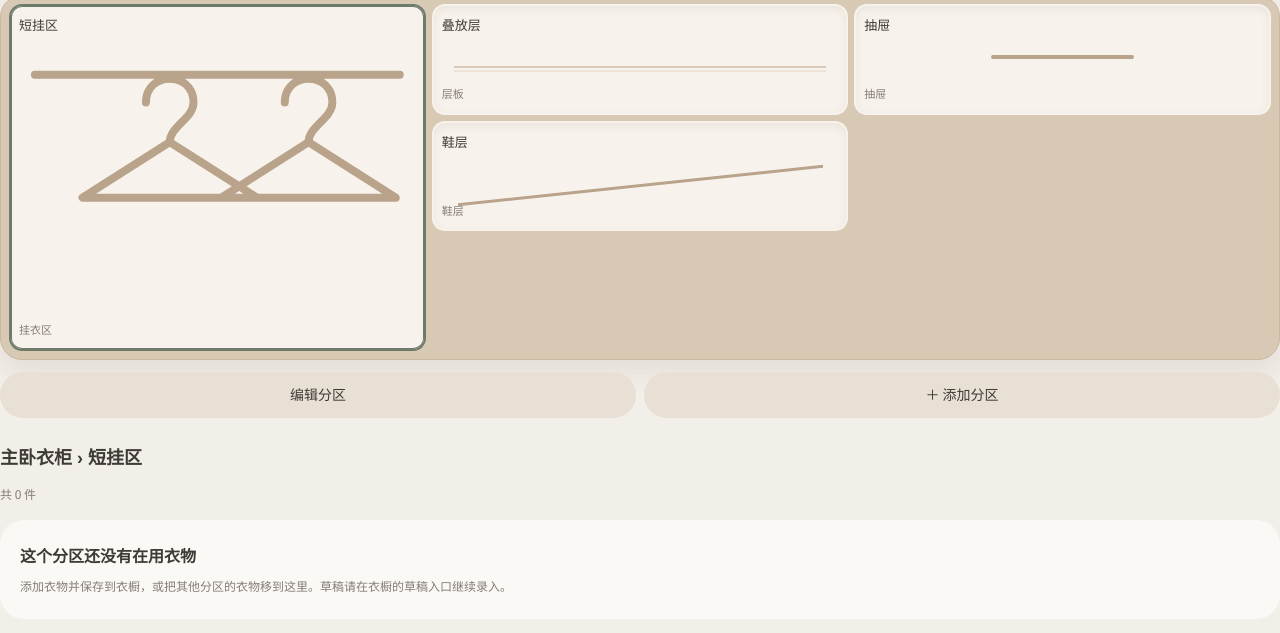
requires a legal relocation before deleting a nonempty 分区
What coordinates should you click on to do the following:
click the button "编辑分区"
I would click on:
 (318, 395)
Its box is [0, 372, 636, 418].
(page scrolled)
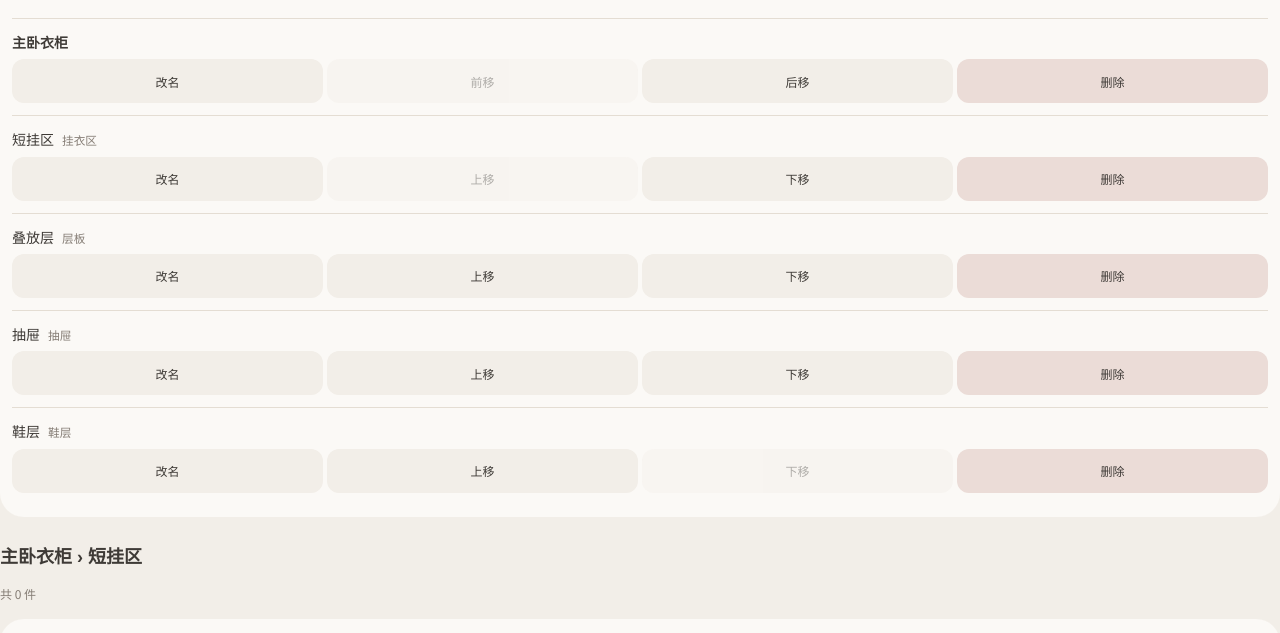
What coordinates should you click on to do the following:
click the button with aria-label "删除短挂区"
I would click on:
 (1112, 179)
Its box is [957, 157, 1268, 201].
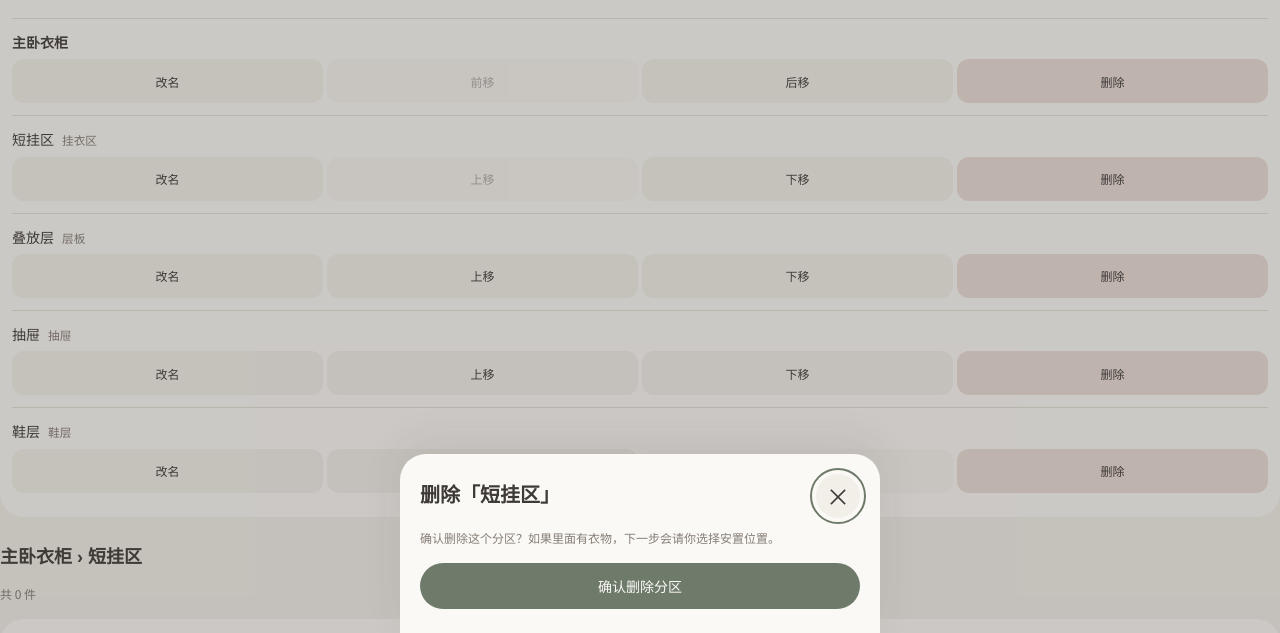
What coordinates should you click on to do the following:
click the button "确认删除分区"
I would click on:
 (640, 586)
Its box is [420, 563, 860, 609].
(page scrolled)
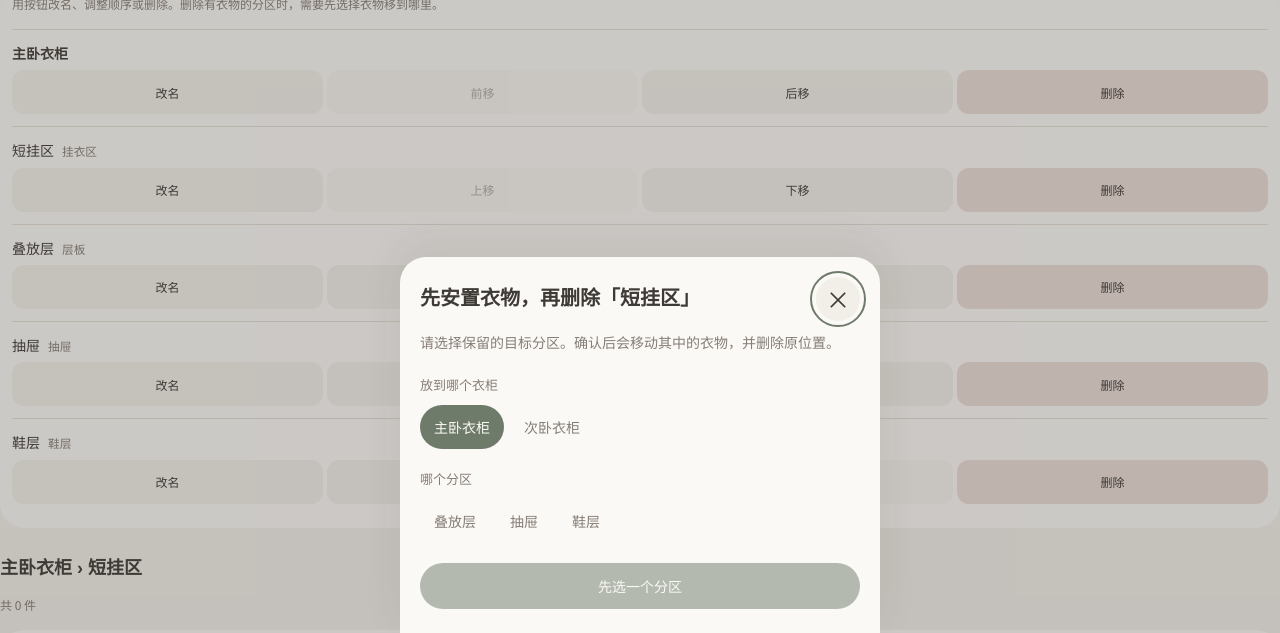
What coordinates should you click on to do the following:
click the button "次卧衣柜"
I would click on:
 (552, 427)
Its box is [510, 405, 594, 449].
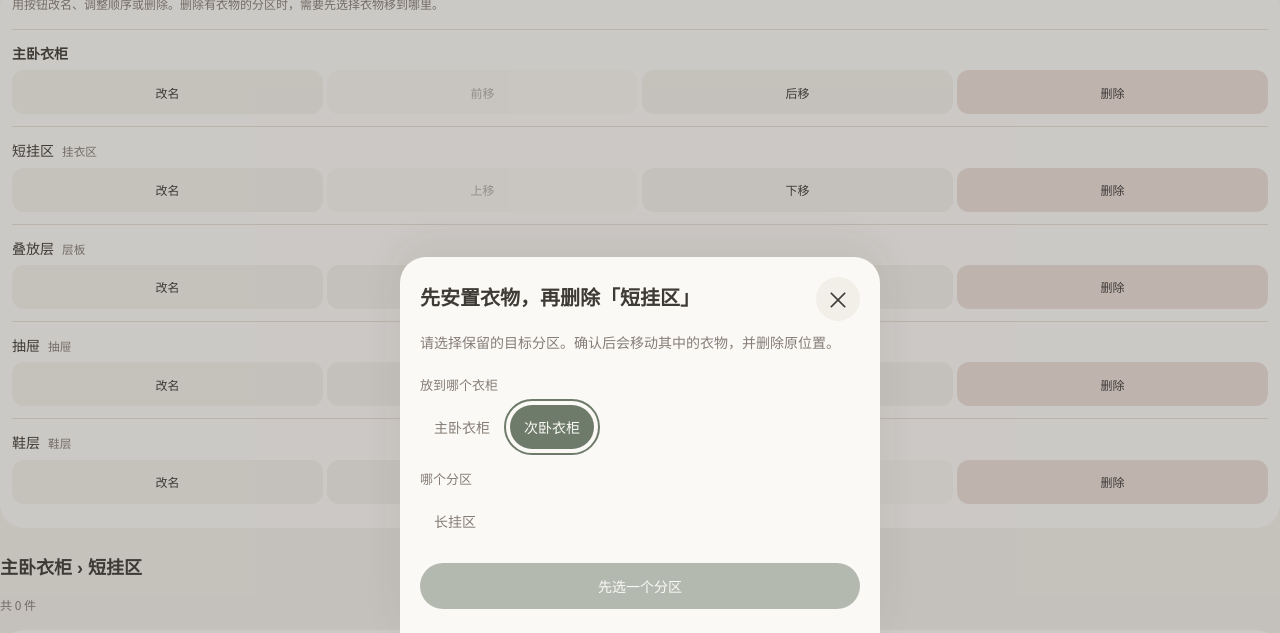
Result: the button "先选一个分区" is disabled at [420, 563, 860, 609]
What coordinates should you click on to do the following:
click the button "长挂区"
I would click on:
 (455, 521)
Its box is [420, 499, 490, 543].
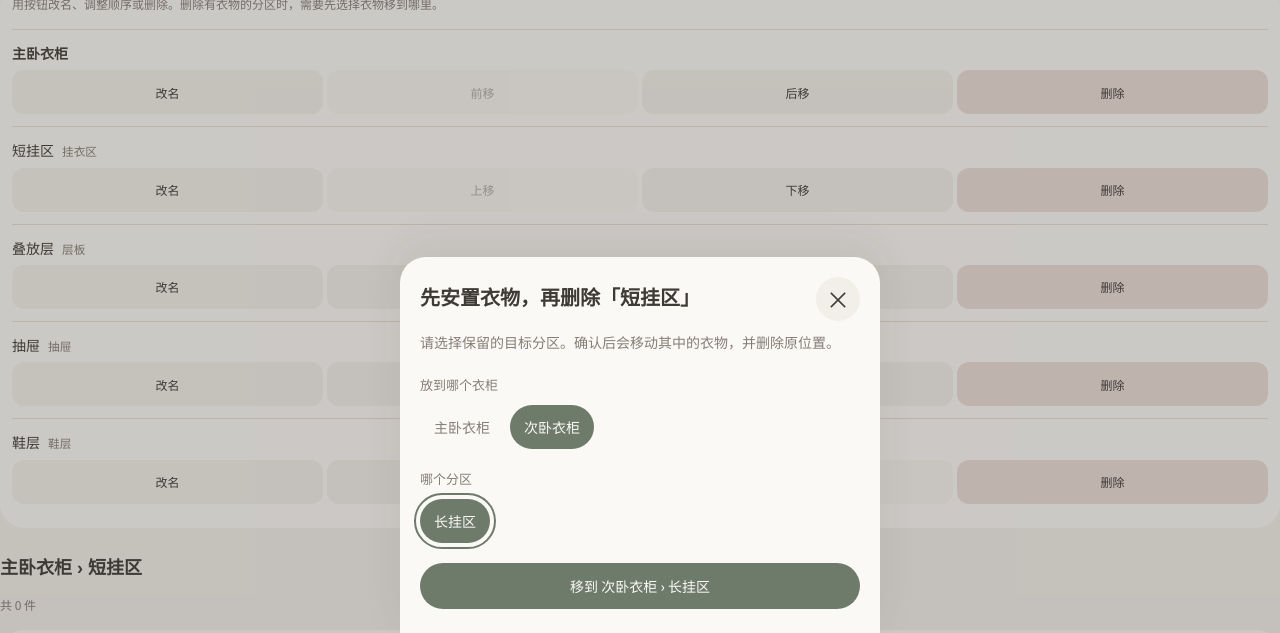
What coordinates should you click on to do the following:
click the button "移到 次卧衣柜 › 长挂区"
I would click on:
 (640, 586)
Its box is [420, 563, 860, 609].
(page scrolled)
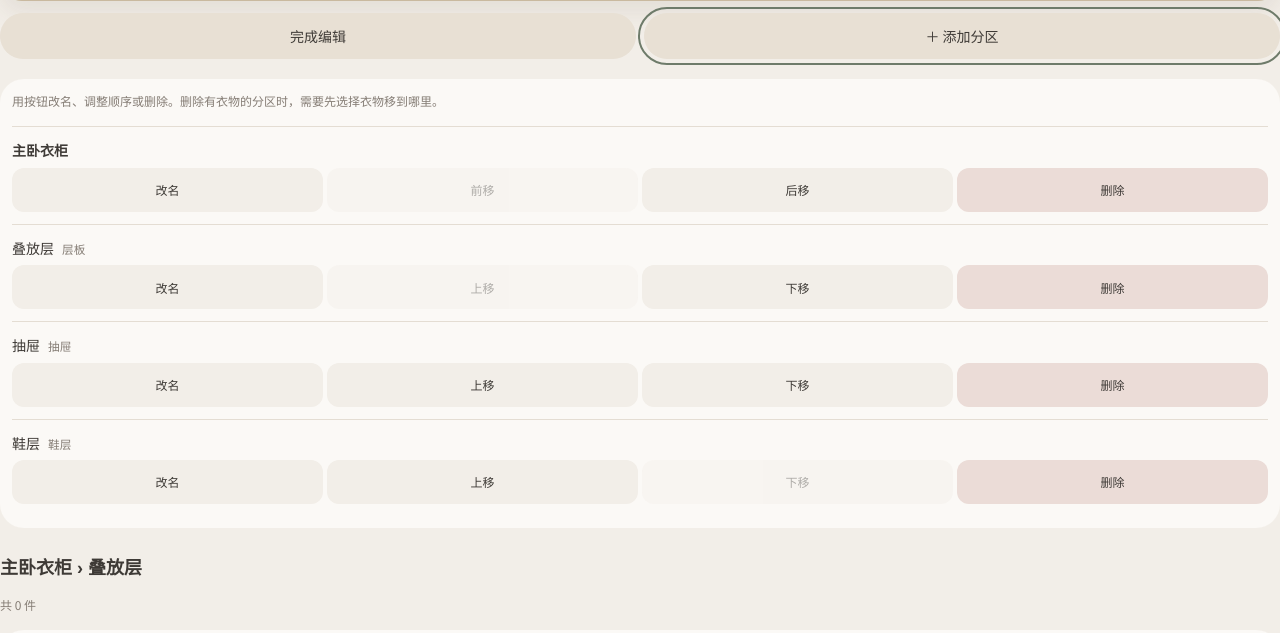
Result: the dialog is gone
